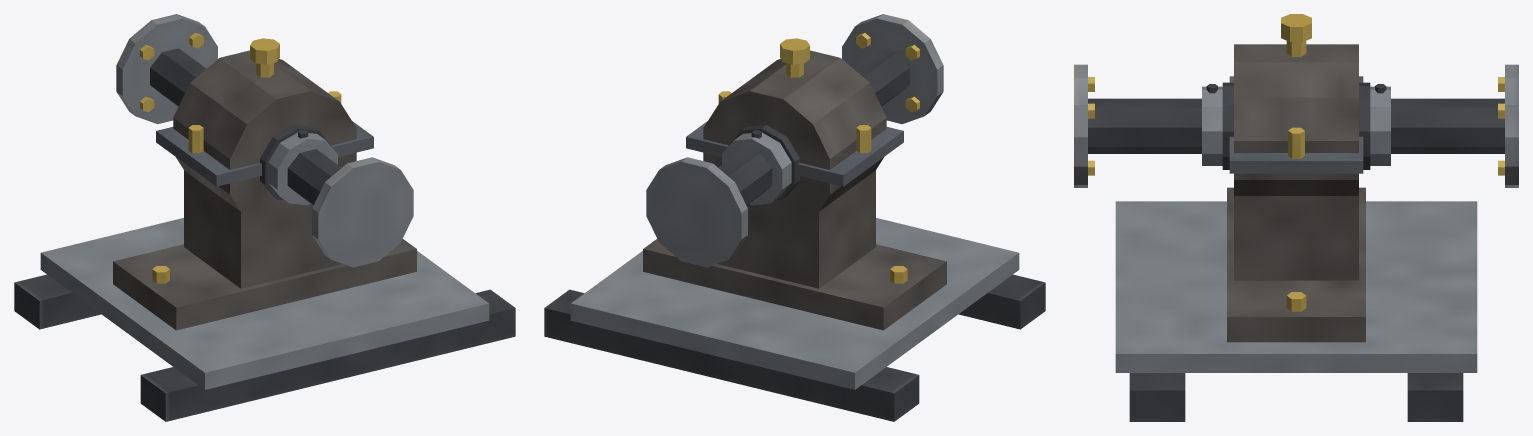
The model's file is shaftjoint.obj.
3 renders of one model, left to right at view 1: azimuth 30°, elevation 25°; view 2: azimuth 150°, elevation 25°; view 3: azimuth 270°, elevation 25°, orthographic. The views are drawn at different scales.
Parts seen in each view (by area): view 1: main, rotor; view 2: main, rotor; view 3: main, rotor.
Part boxes in pixels (x1,y1,x2,y2): main: [14, 38, 515, 421]; rotor: [116, 14, 413, 267]; main: [544, 38, 1045, 421]; rotor: [646, 14, 943, 267]; main: [1115, 14, 1477, 421]; rotor: [1074, 64, 1518, 187].
Bounding box in the file's own units: 1 × 0.7625 × 1.
Materials: 1 (1 with a texture image).
